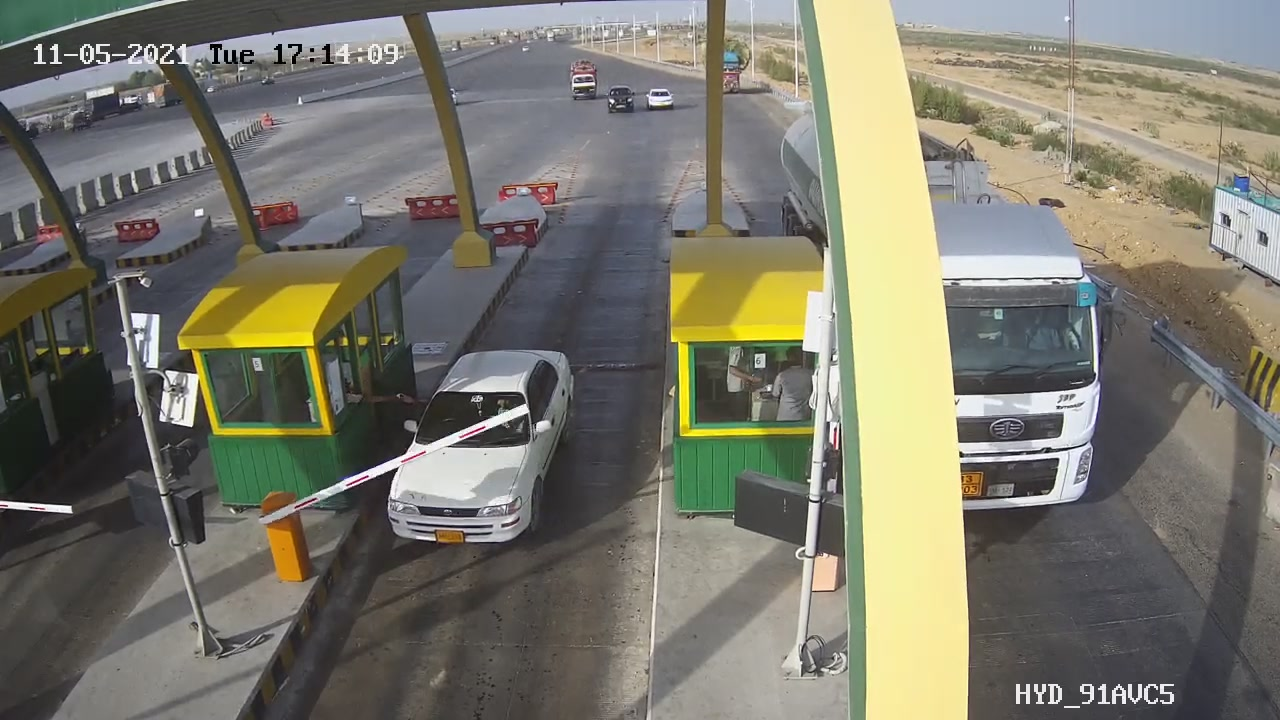F1: (360, 334, 617, 592)
